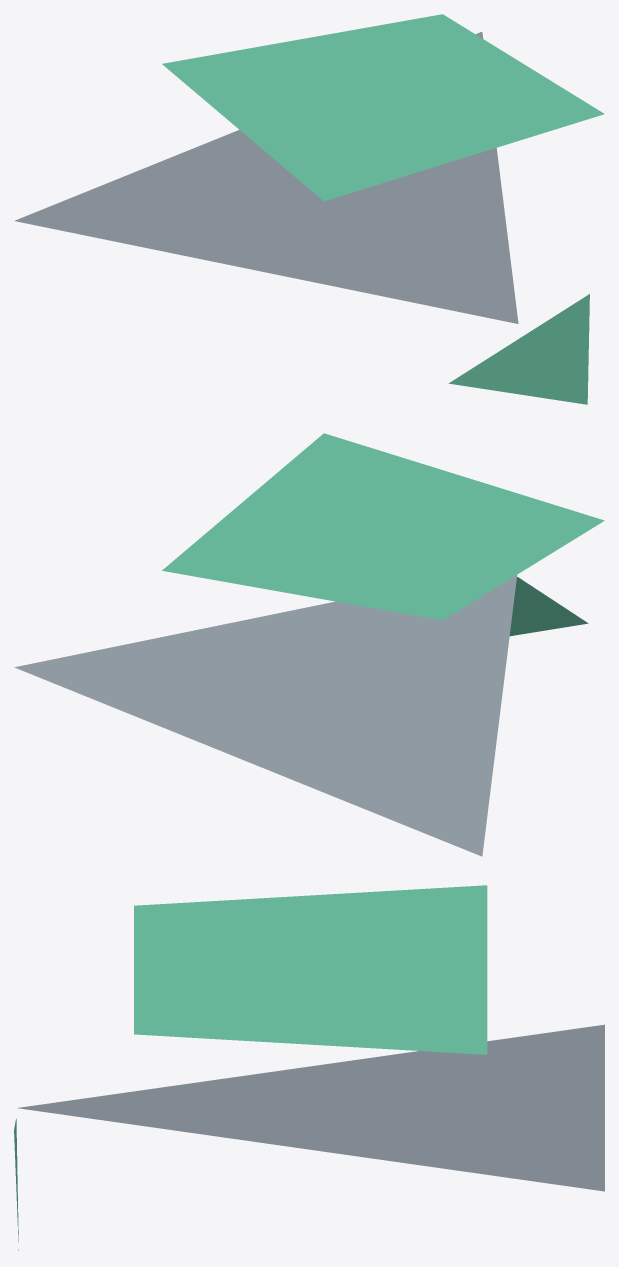
File: CO_Airfield_LOD2.glb
3 views of the same model, one above another, from view 1: azimuth 30°, elevation 25°; view 2: azimuth 150°, elevation 25°; view 3: azimuth 270°, elevation 25° (orthographic). The views are drawn at different scales.
Parts seen in each view (by area): view 1: EntranceGate; view 2: EntranceGate; view 3: EntranceGate.
Part boxes in pixels (x1,y1,x2,y2): EntranceGate: (14,14,604,404); EntranceGate: (14,433,604,856); EntranceGate: (14,885,604,1250).
Bounding box in the file's own units: 800 × 383 × 803.
